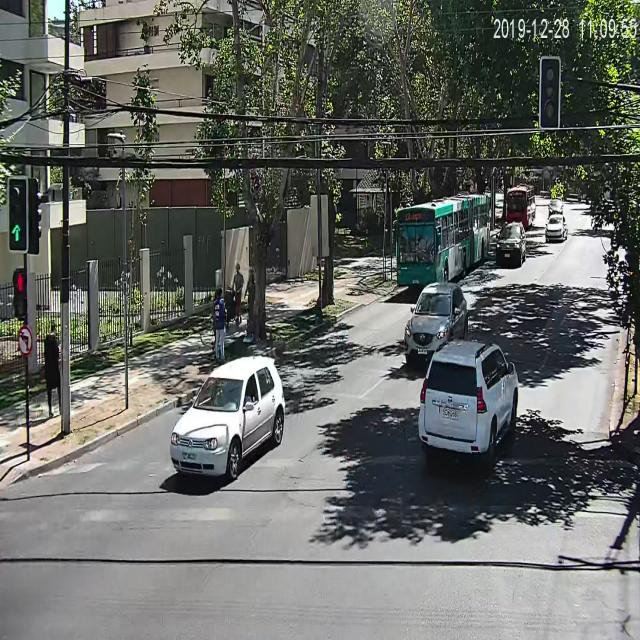AB: (389, 187, 498, 303)
